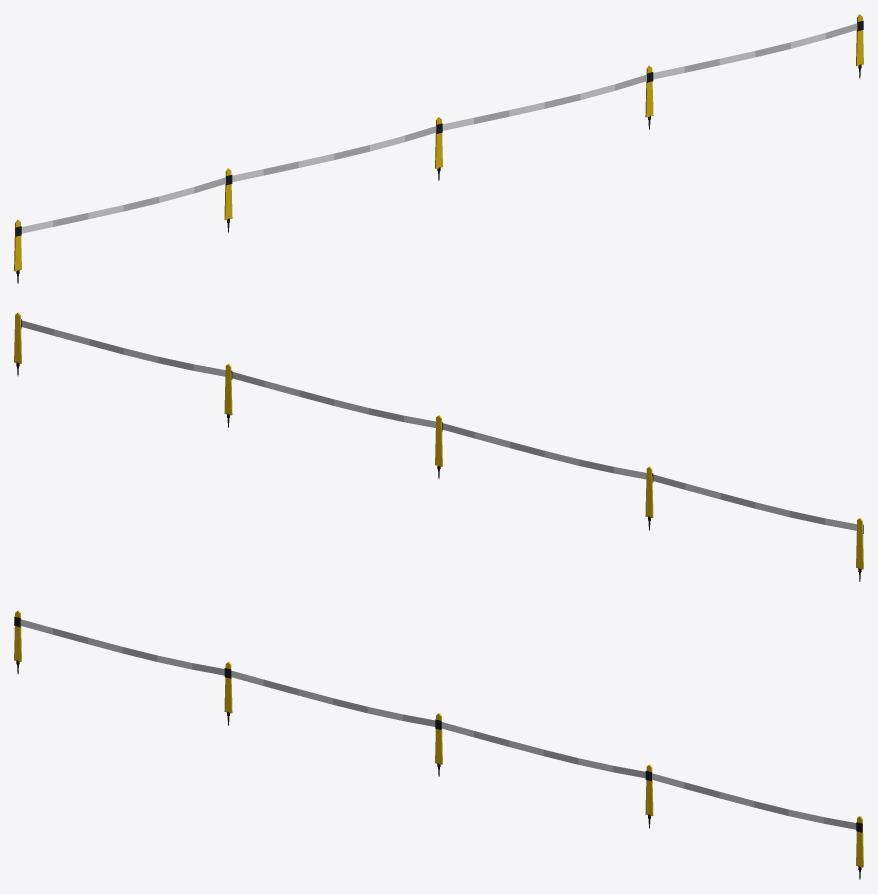
The model's file is tape.glb.
3 renders of one model, top to bottom at view 1: azimuth 30°, elevation 25°; view 2: azimuth 150°, elevation 25°; view 3: azimuth 330°, elevation 25°, orthographic.
Visible parts, largest first — view 1: tape; view 2: tape; view 3: tape.
Part boxes in pixels (<box>): tape: <box>14,14,863,283</box>; tape: <box>14,312,863,581</box>; tape: <box>14,610,863,879</box>.
Size of the model in its own units: 10.71 by 0.77 by 0.0344.
